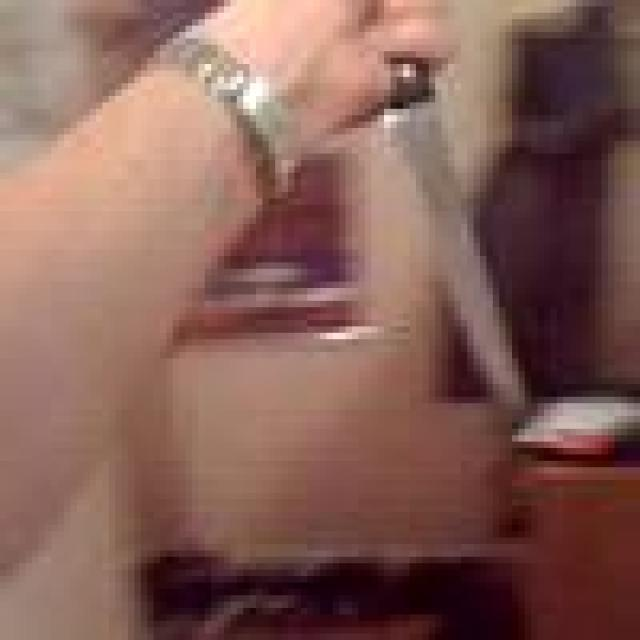knife: (381, 106, 524, 406)
